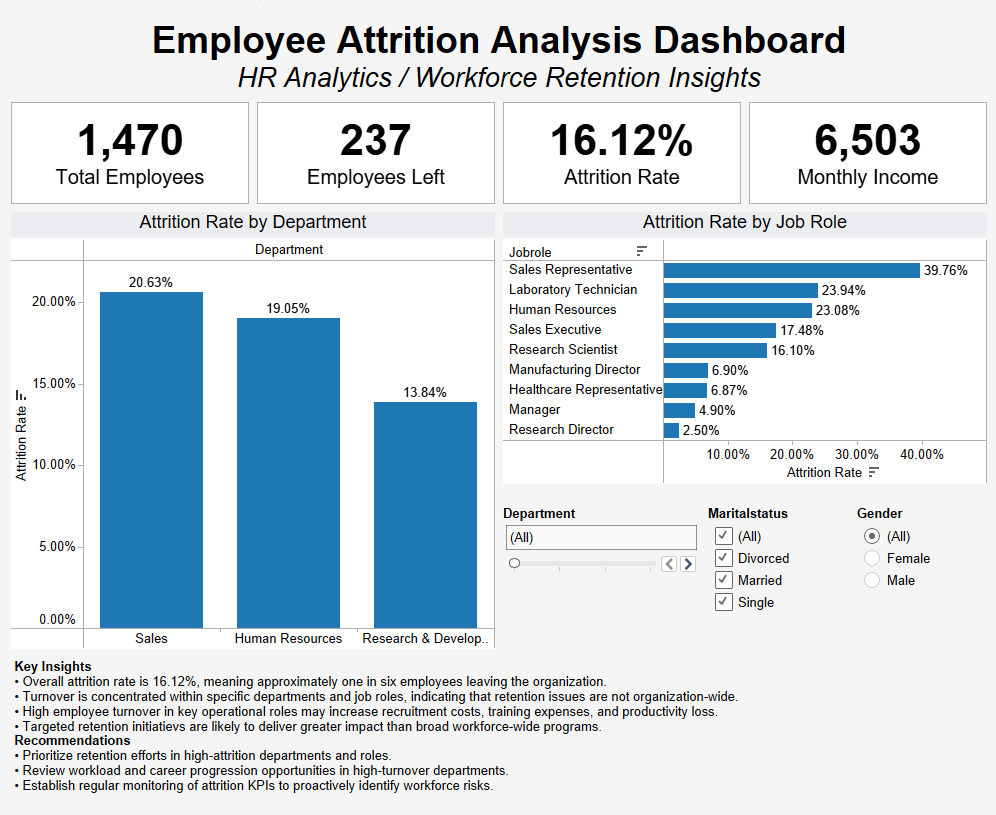

What the dashboard file says about the page in this screenshot:
{"tool":"tableau","page":{"name":"Dashboard 1","canvas":[1000,800],"ordinal":0},"visuals":[{"type":"text","box":[8,8,984,82]},{"type":"worksheet","title":"KPI - Total Employees","mark":"Automatic","box":[8,90,246,110]},{"type":"worksheet","title":"KPI - Employees Left","mark":"Automatic","box":[254,90,246,110]},{"type":"worksheet","title":"KPI - Attrition Rate","mark":"Automatic","box":[500,90,246,110]},{"type":"worksheet","title":"KPI - Average Income","mark":"Automatic","box":[746,90,246,110]},{"type":"worksheet","title":"Attrition Rate by Department","mark":"Bar","rows":["Calculation_1731634067928555523"],"cols":["department"],"box":[8,200,492,445]},{"type":"worksheet","title":"Attrition Rate by Job Role","mark":"Bar","rows":["jobrole"],"cols":["Calculation_1731634067928555523"],"box":[500,200,492,294]},{"type":"filter","title":"Attrition Rate by Department","param":"[federated.0qavisd17s4cvy1b894ll1u8j9ub].[none:department:nk]","box":[500,494,205,151]},{"type":"filter","title":"Attrition Rate by Job Role","param":"[federated.0qavisd17s4cvy1b894ll1u8j9ub].[none:maritalstatus:nk]","box":[705,494,149,151]},{"type":"filter","title":"Attrition Rate by Job Role","param":"[federated.0qavisd17s4cvy1b894ll1u8j9ub].[none:gender:nk]","box":[854,494,138,151]},{"type":"text","box":[8,645,984,147]}]}

Visuals, with their boxes in screenshot pixels (x1, y1, x2, y2), scaled from the page's 1000x800 canvas onto the 996x815 screenshot:
text: [8, 8, 988, 92]
"KPI - Total Employees" worksheet: [8, 92, 253, 204]
"KPI - Employees Left" worksheet: [253, 92, 498, 204]
"KPI - Attrition Rate" worksheet: [498, 92, 743, 204]
"KPI - Average Income" worksheet: [743, 92, 988, 204]
"Attrition Rate by Department" worksheet (Bar marks): [8, 204, 498, 657]
"Attrition Rate by Job Role" worksheet (Bar marks): [498, 204, 988, 503]
"Attrition Rate by Department" filter: [498, 503, 702, 657]
"Attrition Rate by Job Role" filter: [702, 503, 851, 657]
"Attrition Rate by Job Role" filter: [851, 503, 988, 657]
text: [8, 657, 988, 807]
